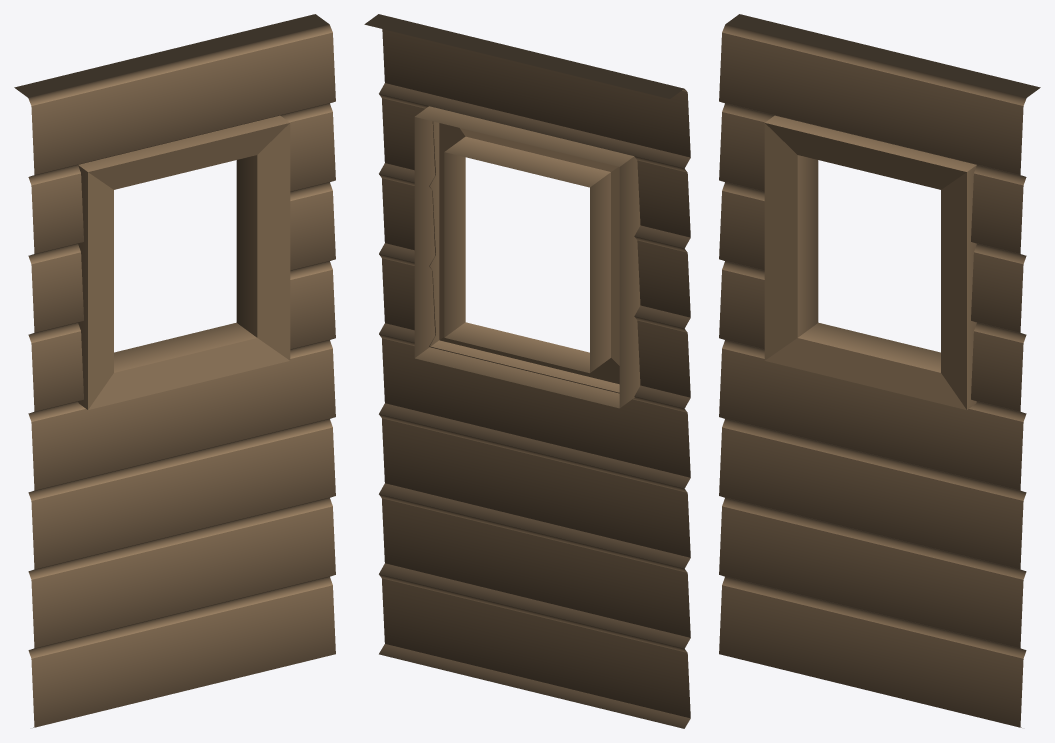
Rendered from plank_wall_window.fbx.
The picture shows the model from 3 angles, left to right: view 1: azimuth 30°, elevation 25°; view 2: azimuth 150°, elevation 25°; view 3: azimuth 330°, elevation 25°; orthographic projection.
Visible parts, largest first — view 1: plank_wall_window; view 2: plank_wall_window; view 3: plank_wall_window.
Part boxes in pixels (box(x1,y1,x2,y2)): plank_wall_window: box(14, 14, 335, 727); plank_wall_window: box(364, 14, 690, 728); plank_wall_window: box(719, 14, 1040, 727).
Size of the model in its own units: 100 by 200 by 14.
